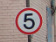speed_limit_5: (15, 7, 43, 34)
